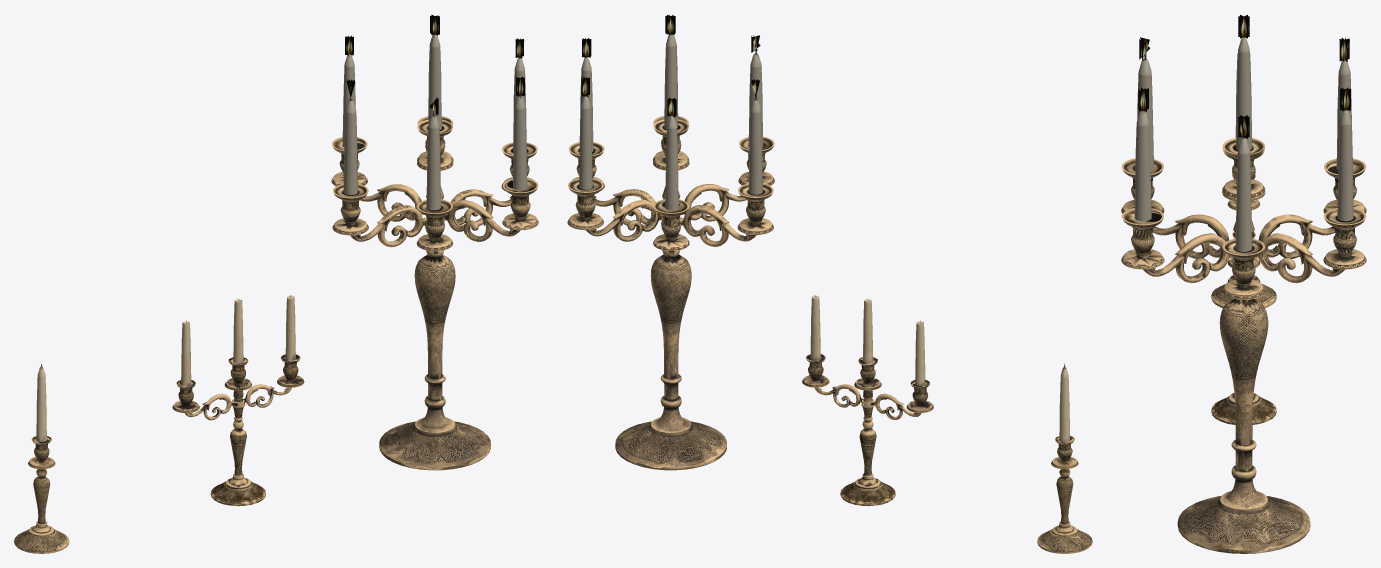
File: brass-candleholders.glb
3 views of the same model, side by side, from view 1: azimuth 30°, elevation 25°; view 2: azimuth 150°, elevation 25°; view 3: azimuth 270°, elevation 25° (orthographic). The views are drawn at different scales.
Visible parts, largest first — view 1: brass_candleholders; view 2: brass_candleholders; view 3: brass_candleholders.
Boxes of the visible parts, x1,y1,x2,y2 form: brass_candleholders: (14, 14, 538, 553); brass_candleholders: (567, 15, 1092, 553); brass_candleholders: (1121, 15, 1366, 553).
Bounding box in the file's own units: 1.05 × 0.8353 × 0.3647.
5 materials, 5 textured.
